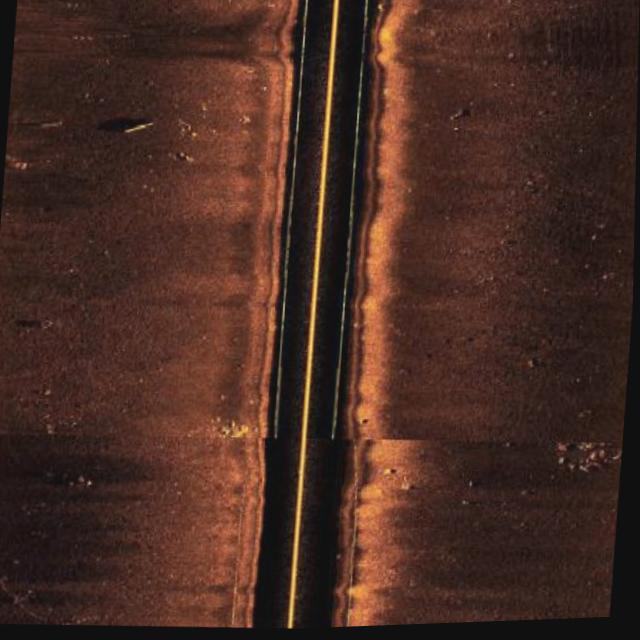mine: (93, 108, 158, 142), (7, 115, 65, 136)
